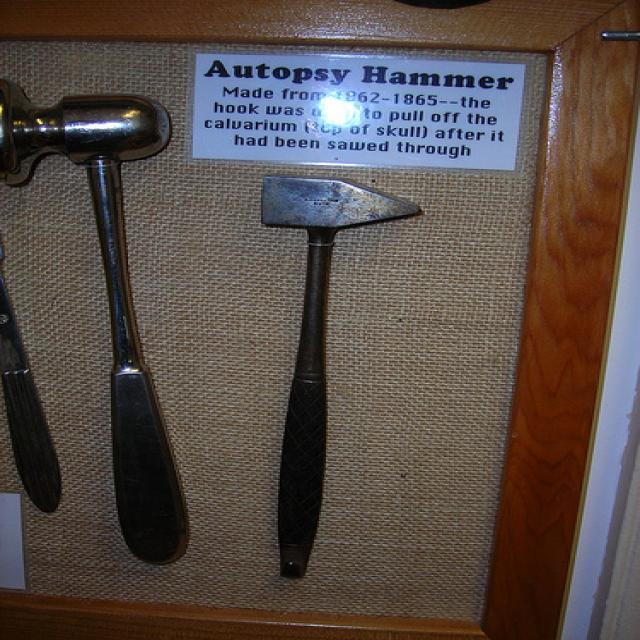hammer: (0, 66, 186, 556), (252, 168, 424, 589)
